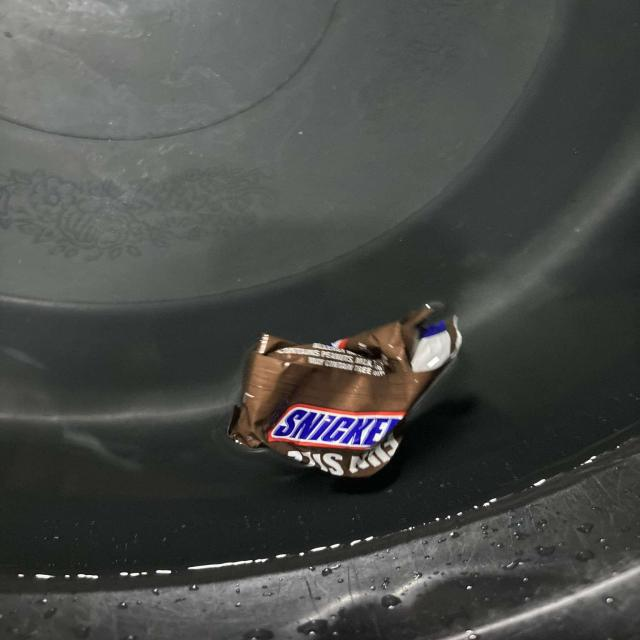Plastic Wrapper: (190, 275, 489, 498)
